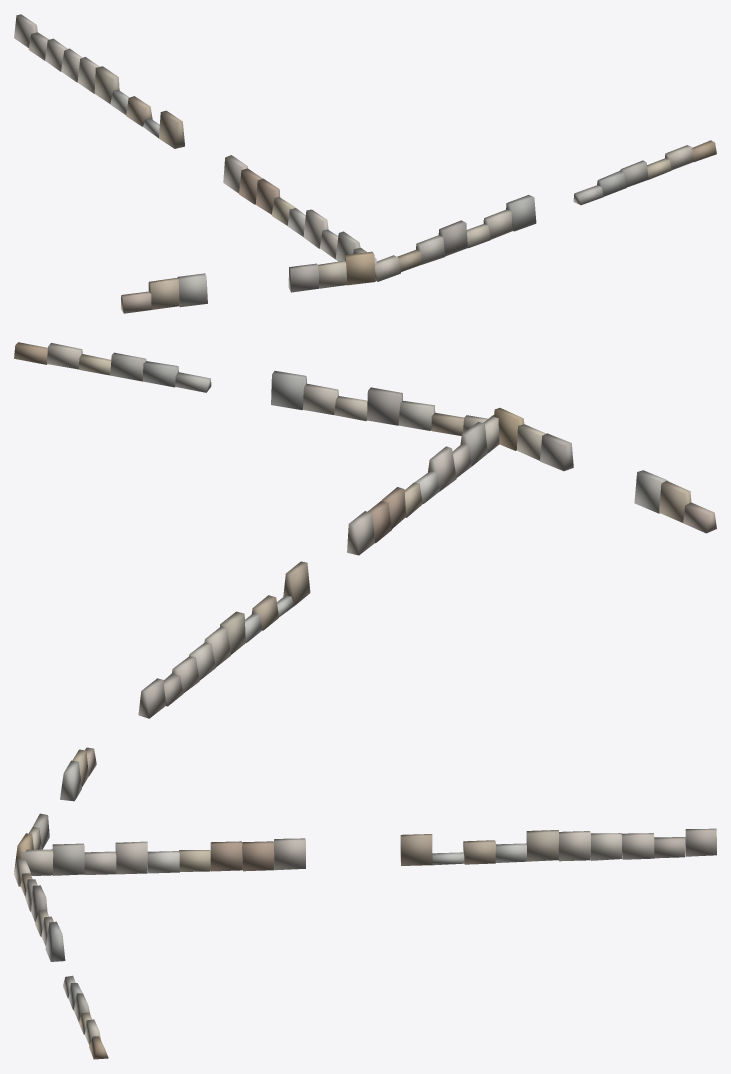
File: farm_-35_-28_far.glb
The picture shows the model from 3 angles, top to bottom: view 1: azimuth 30°, elevation 25°; view 2: azimuth 150°, elevation 25°; view 3: azimuth 270°, elevation 25°; orthographic projection. The views are drawn at different scales.
Visible parts, largest first — view 1: geometry_0; view 2: geometry_0; view 3: geometry_0.
Part boxes in pixels (left/top/right/bottom): geometry_0: left=14, top=14, right=716, bottom=313; geometry_0: left=14, top=342, right=716, bottom=718; geometry_0: left=14, top=747, right=716, bottom=1059.
Bounding box in the file's own units: 36.25 × 1.91 × 35.03.
